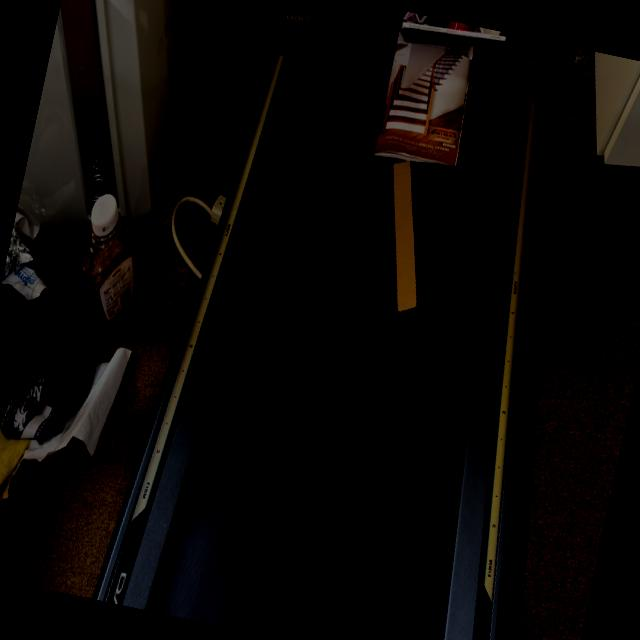Recycle: (372, 26, 483, 170), (358, 157, 449, 316)
